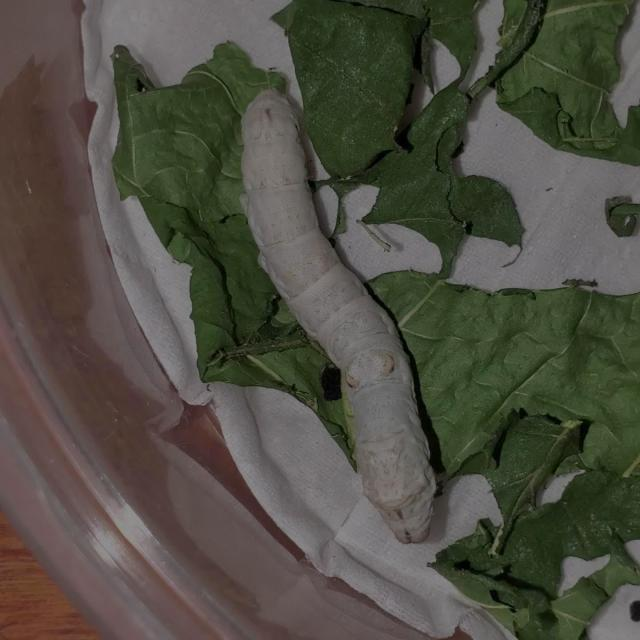Healthy: (205, 58, 489, 565)
